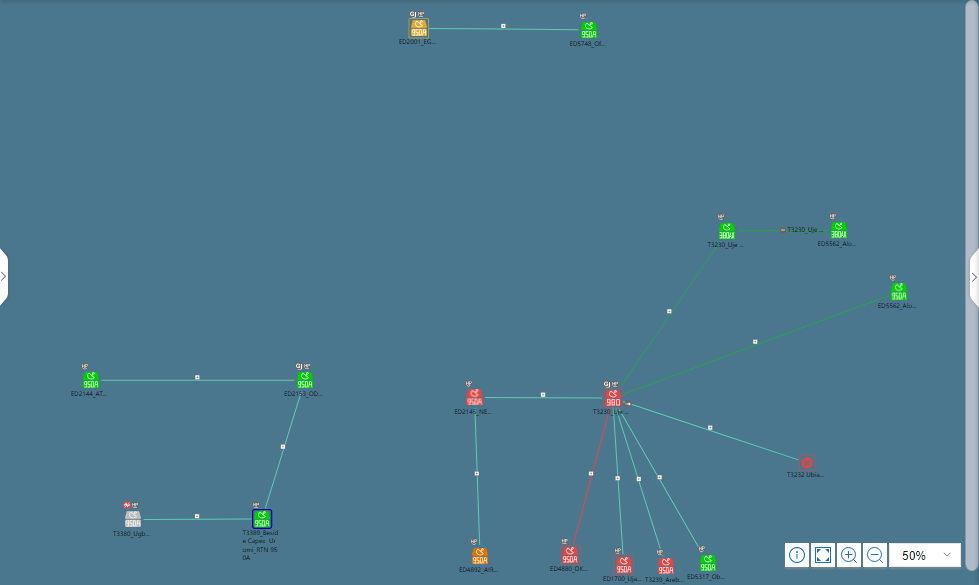Link_Blue: (626, 423, 705, 557), (627, 400, 791, 456), (615, 426, 668, 557), (266, 393, 298, 491), (615, 490, 626, 557), (474, 494, 485, 545), (144, 516, 177, 527)
Link_Green: (621, 296, 880, 404), (621, 240, 724, 383)
Link_Red: (572, 406, 613, 536)
RTN_Gray: (125, 510, 142, 533)
RTN_Green: (578, 20, 601, 43), (701, 553, 717, 575), (297, 369, 312, 392), (829, 222, 852, 237), (254, 510, 269, 533), (719, 222, 736, 239), (890, 283, 906, 300), (83, 375, 98, 392)
RTN_Orange: (474, 546, 491, 569)
RTN_Red: (603, 387, 626, 410), (560, 546, 583, 569), (468, 387, 485, 410), (615, 559, 638, 574), (658, 559, 673, 575)
RTN_Yellow: (407, 20, 430, 36)
Router_Red: (798, 455, 815, 471)
